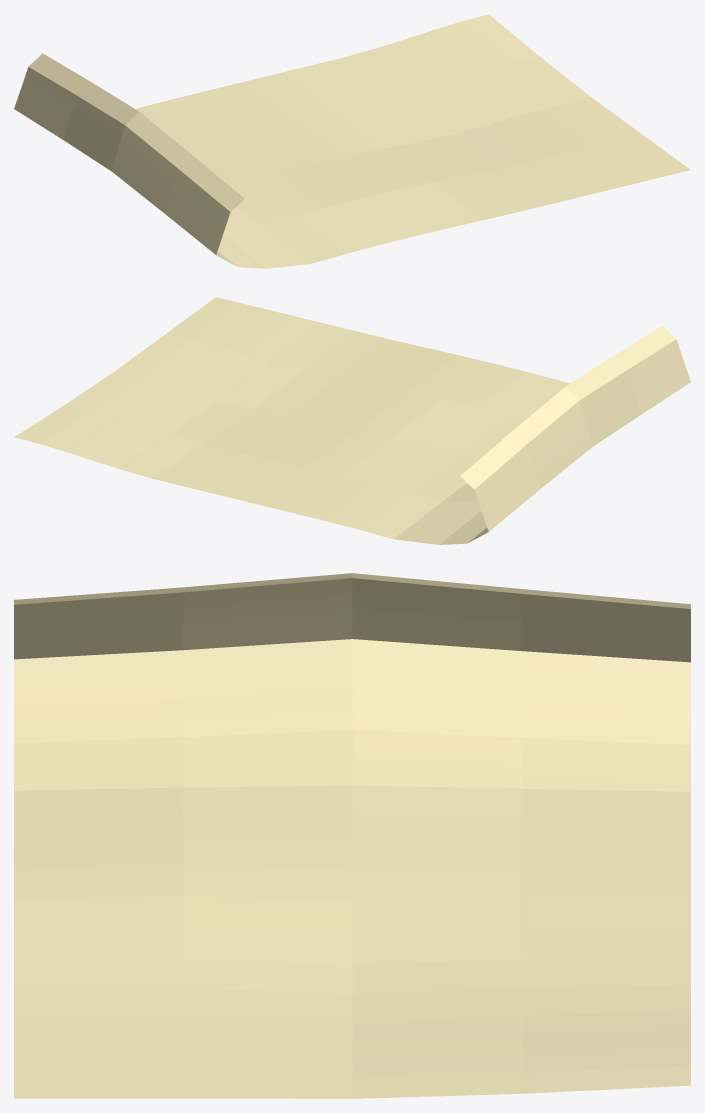
File: PaperOpen.fbx
3 views of the same model, one above another, from view 1: azimuth 30°, elevation 25°; view 2: azimuth 150°, elevation 25°; view 3: azimuth 270°, elevation 25° (orthographic). The views are drawn at different scales.
Parts seen in each view (by area): view 1: PaperOpen; view 2: PaperOpen; view 3: PaperOpen.
Boxes of the visible parts, bbox=[...] form: PaperOpen: bbox=[14, 14, 690, 268]; PaperOpen: bbox=[14, 297, 690, 544]; PaperOpen: bbox=[14, 573, 690, 1098].
Bounding box in the file's own units: 2.6 × 0.515 × 1.91.
